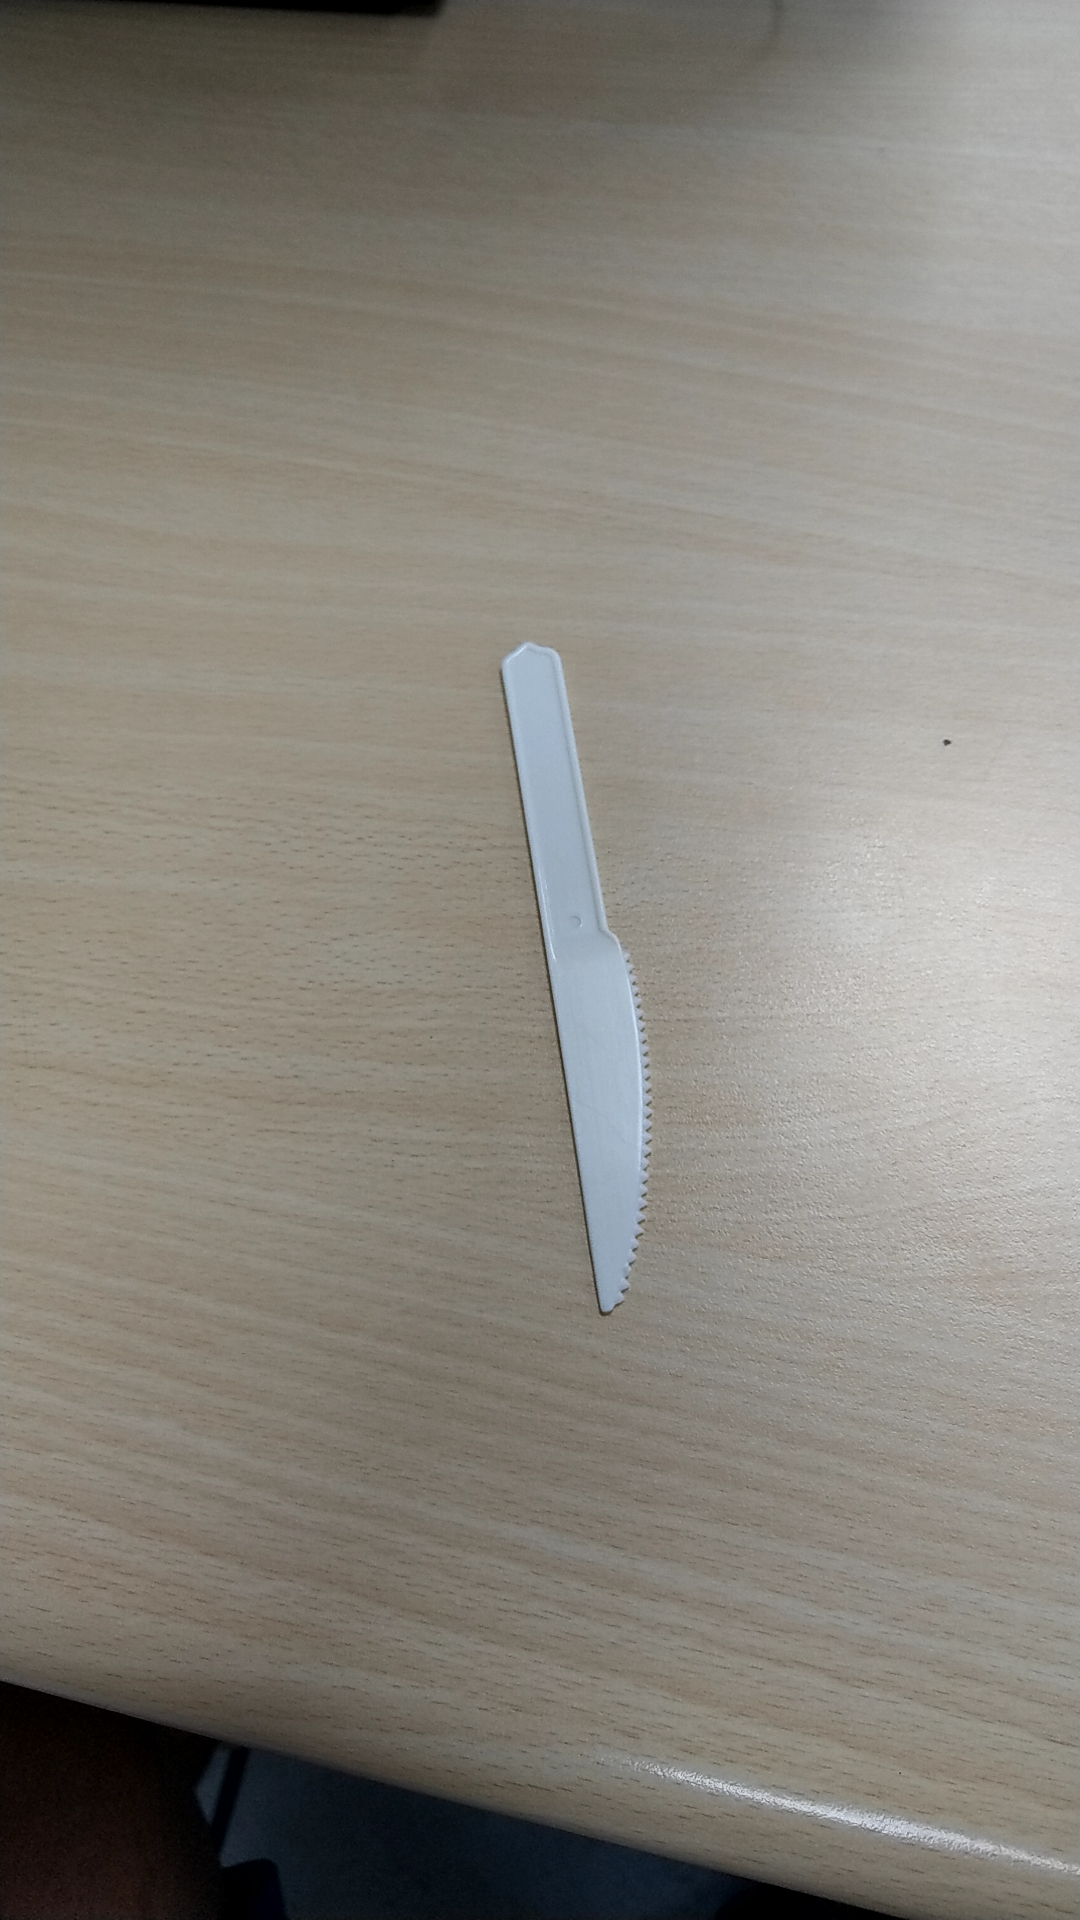knife: (459, 615, 705, 1329)
